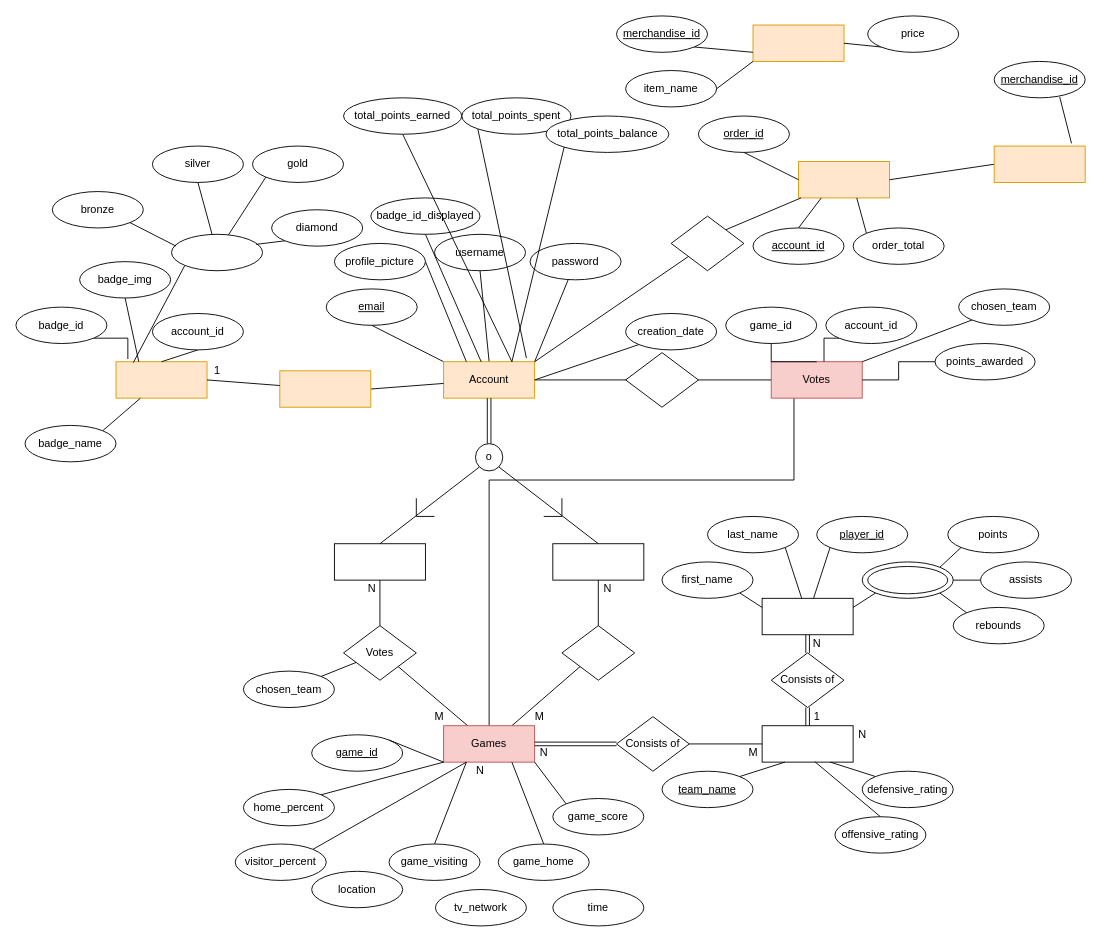
This 1101x942 diagram has some shape labels left out. The centre of each missing label's shape, as x and y in pixels:
"Admin" belongs at (x=598, y=561).
"badge_type" belongs at (x=217, y=252).
"Badges" belongs at (x=161, y=379).
"Badges Earned" belongs at (x=325, y=388).
"Edits" belongs at (x=598, y=652).
"Has" belongs at (x=661, y=379).
"Merchandise" belongs at (x=798, y=42).
"player_stats" belongs at (x=907, y=580).
"Players" belongs at (x=807, y=616).
"Point Shop Order Line Items" belongs at (x=1039, y=163).
"Point Shop Orders" belongs at (x=844, y=179).
"Spends" belongs at (x=707, y=243).
"Teams" belongs at (x=807, y=743).
"User" belongs at (x=379, y=561).
